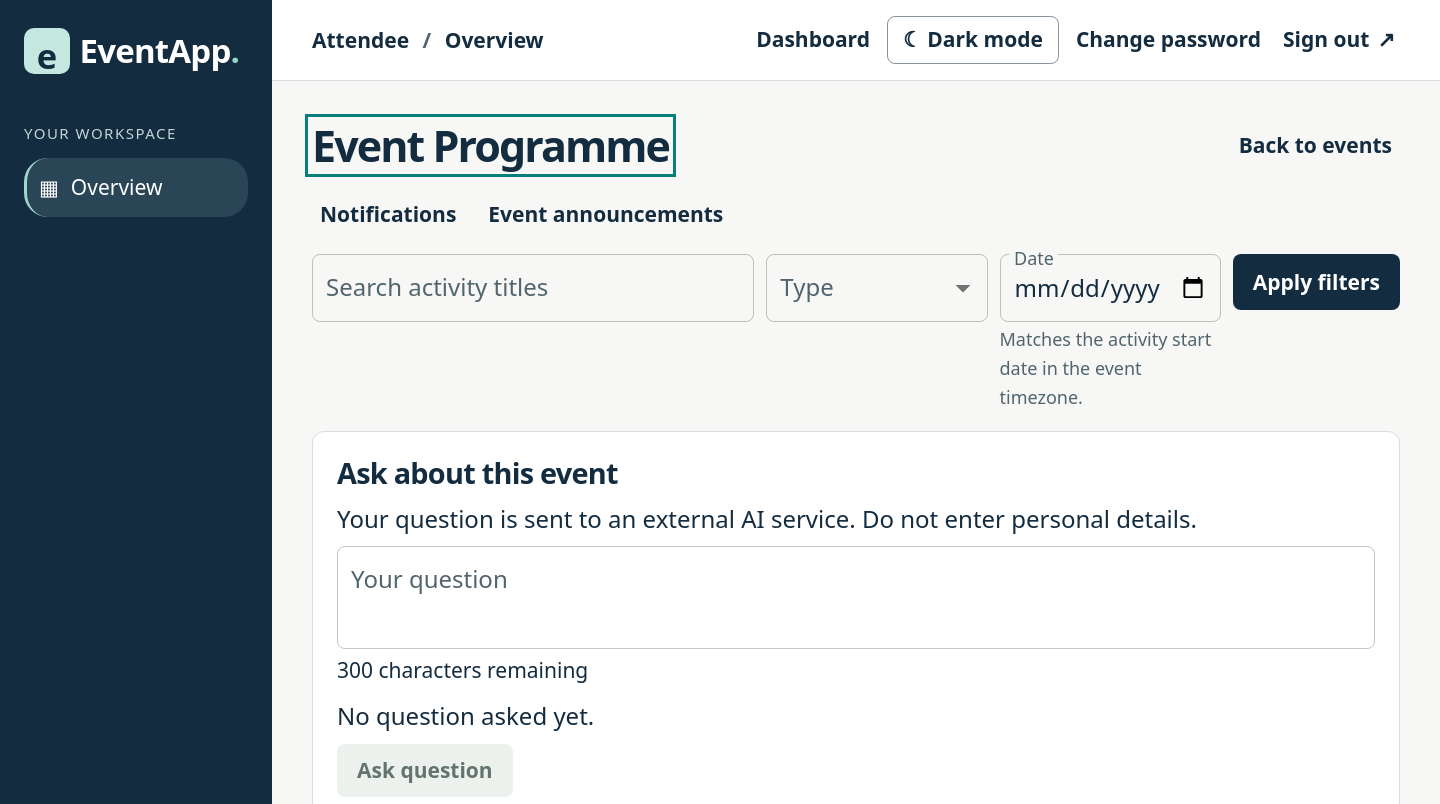
it: F03-US02 attendee event question UI (AC01-AC06) › F03Q-UI09 an unknown result (out_of_scope) gives its reason, no facts, no summary and a way to browse
This screenshot has width=1440, height=804.
Check: the heading "Event Programme" is shown, box [312, 121, 669, 170]
Click the text box labelled "Your question" at x=856, y=598, box [351, 563, 1361, 633]
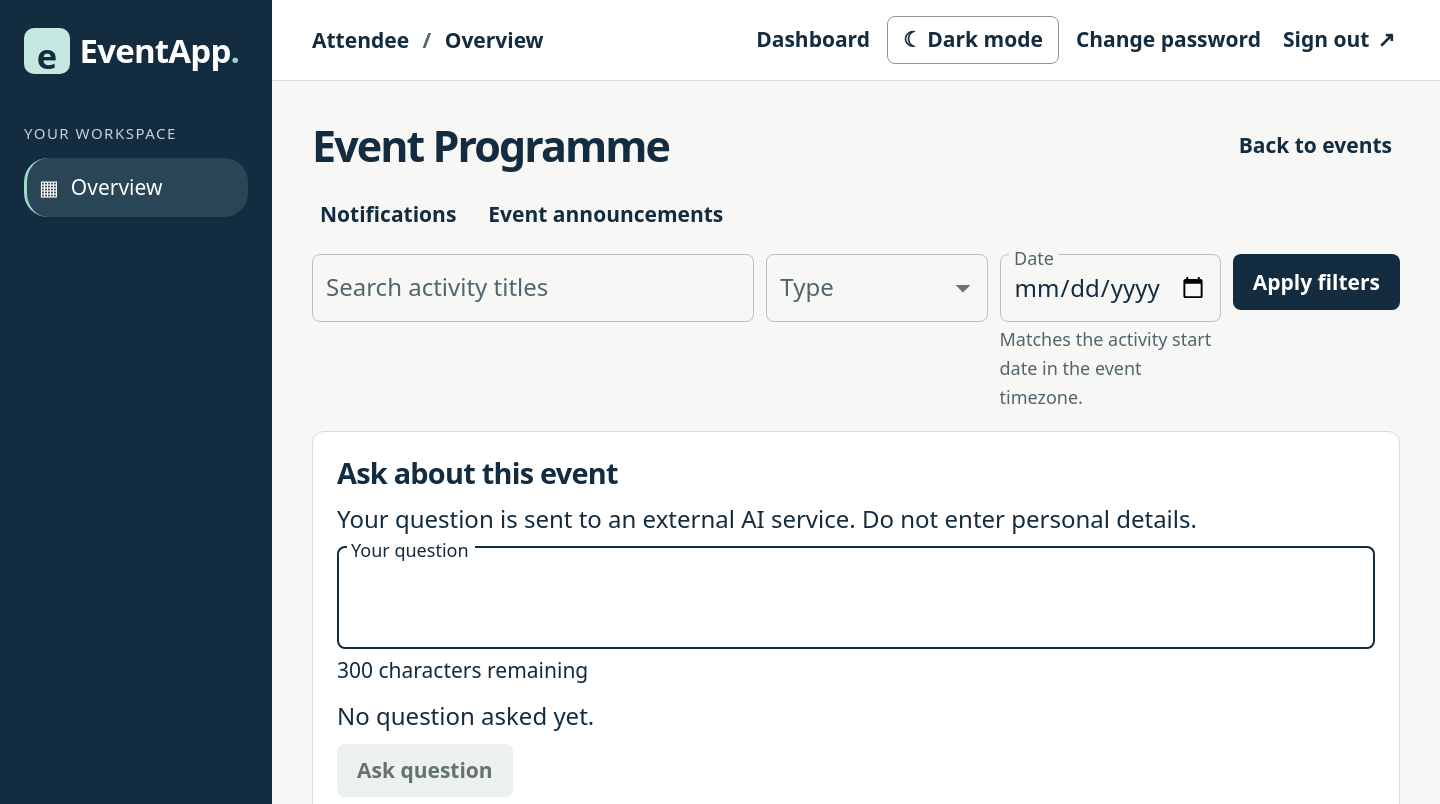
Type keys "When does the evening workshop start and what does it cost?"
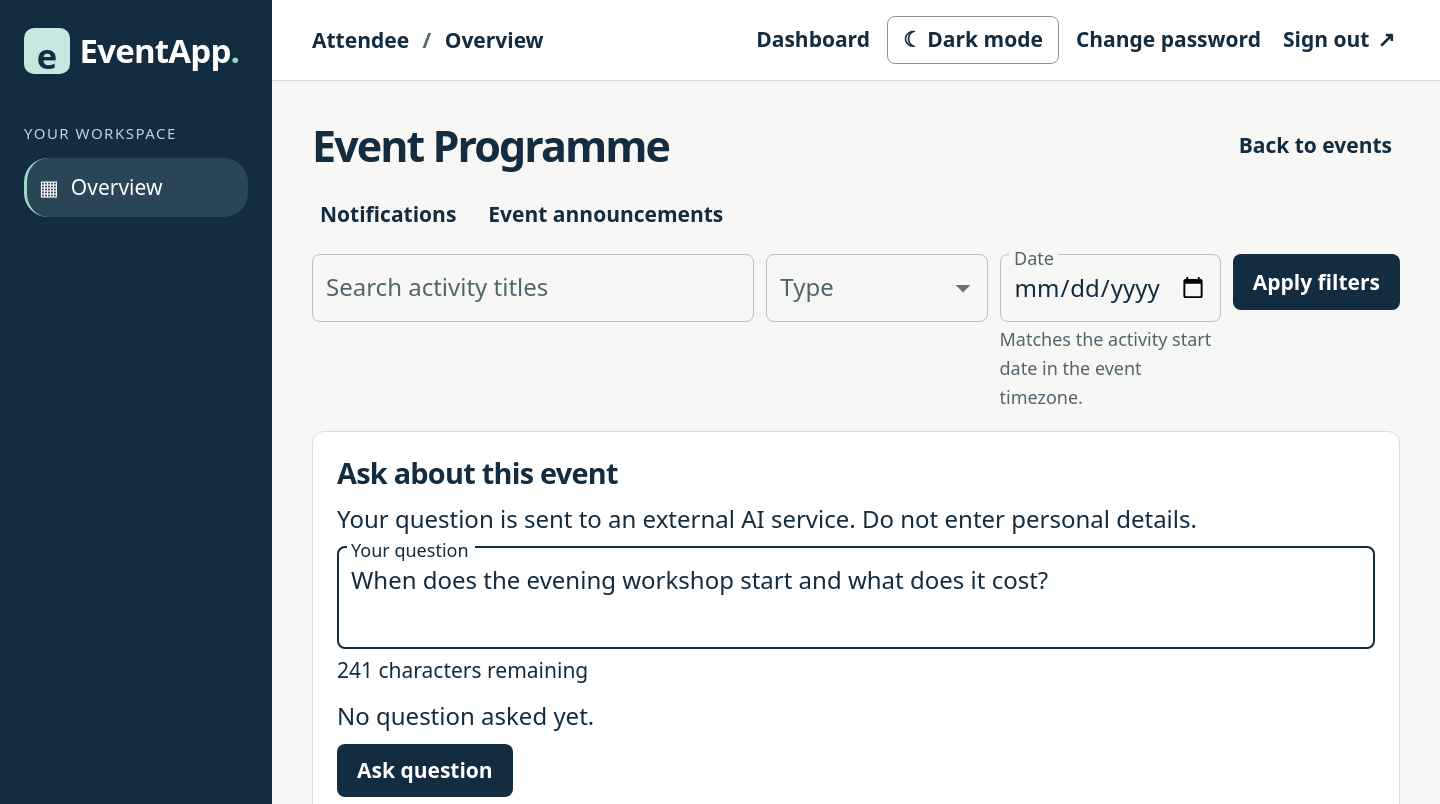
Click the button "Ask question" at x=425, y=770, box [337, 744, 513, 797]
(page scrolled)
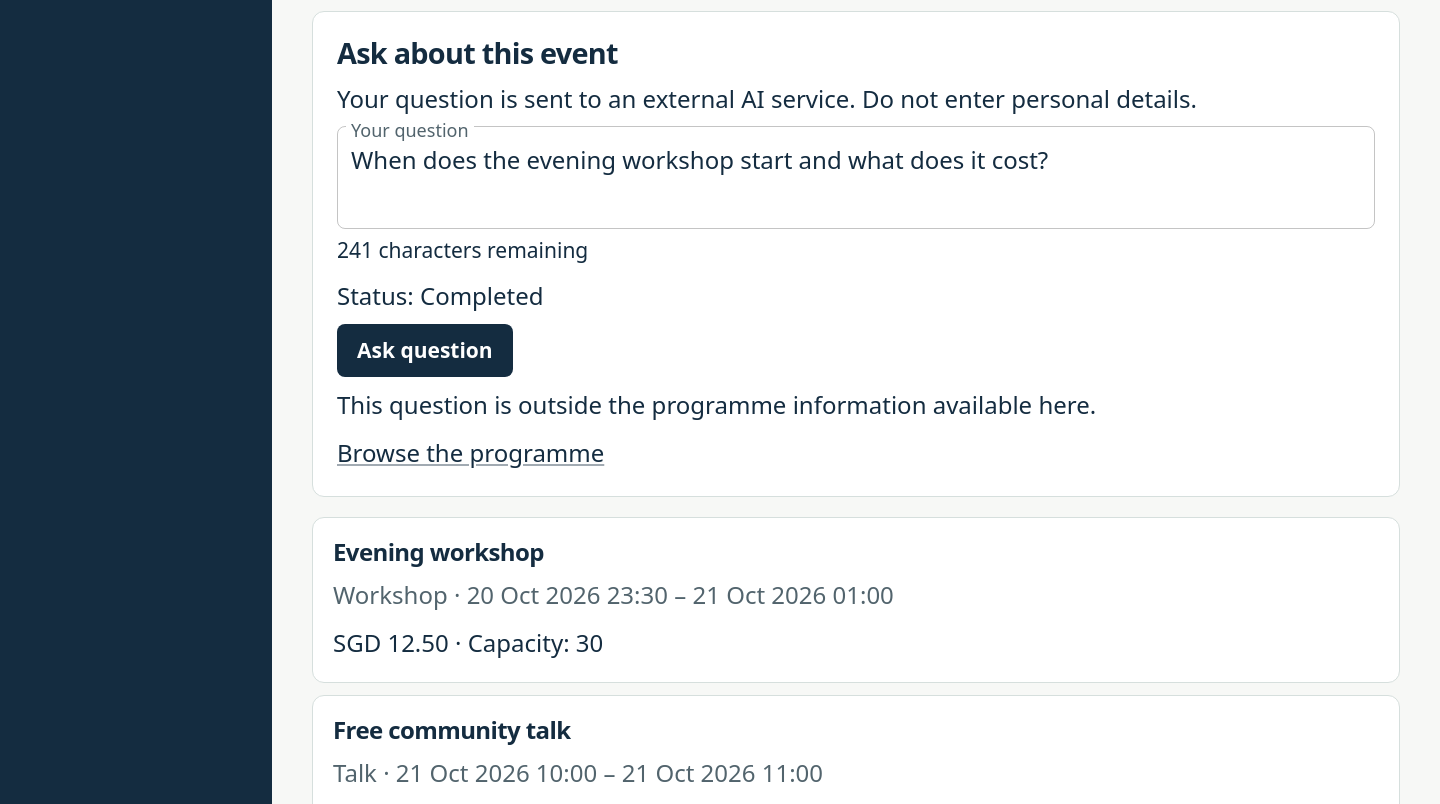
Check: the message named "Question status" shows "Completed", box [337, 279, 544, 312]
Check: the text "This question is outside the programme information available here." is shown, box [337, 388, 1096, 421]
